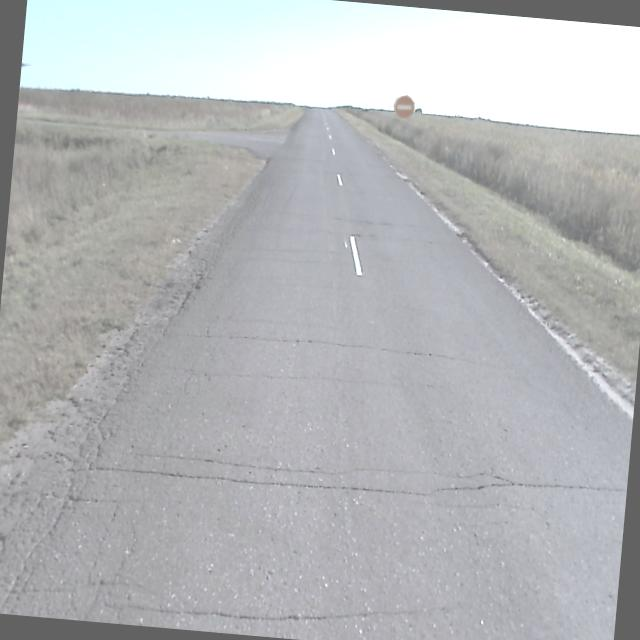road: (0, 106, 632, 640)
